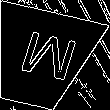M_S: (7, 28, 74, 89)
